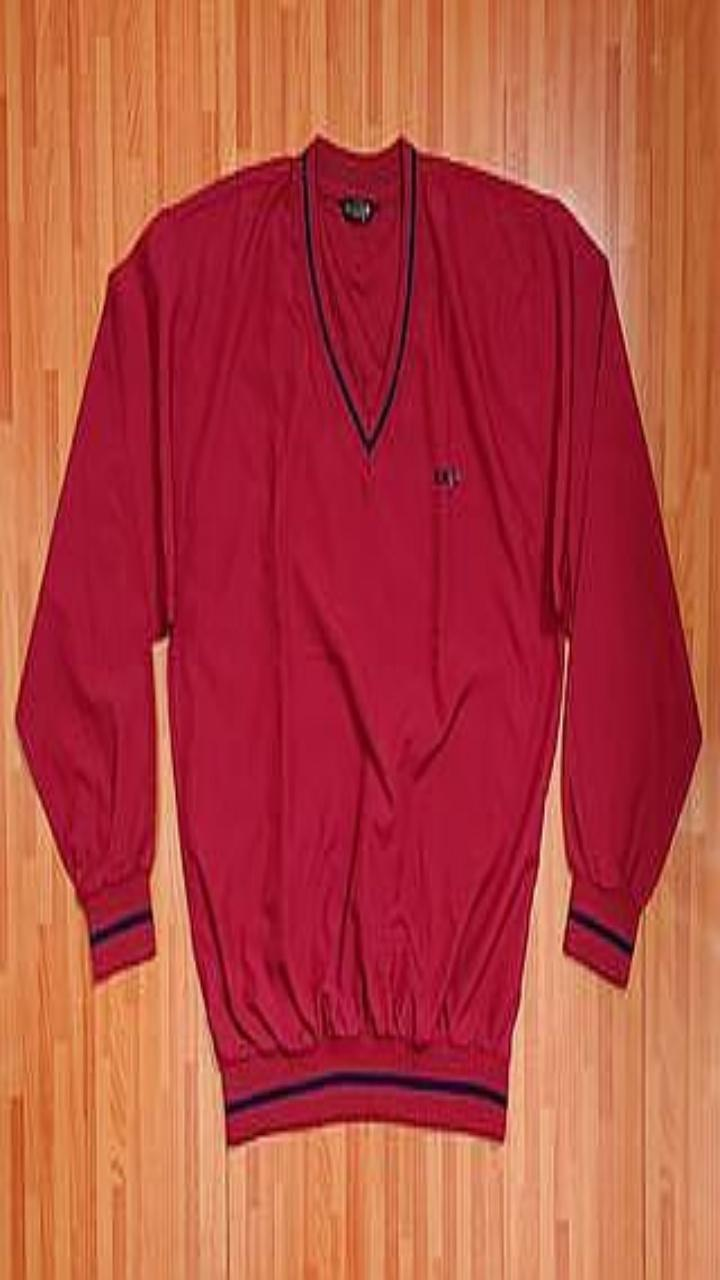T-Shirt: (16, 133, 701, 1142)
